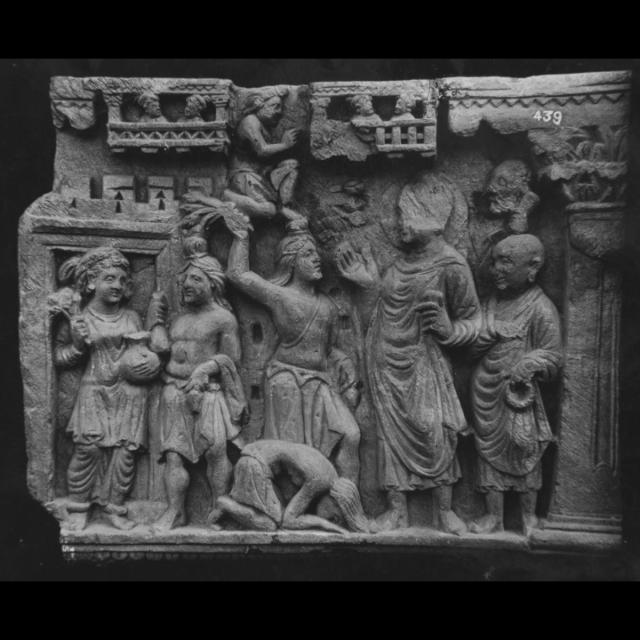buddha-standing: (328, 170, 485, 530)
